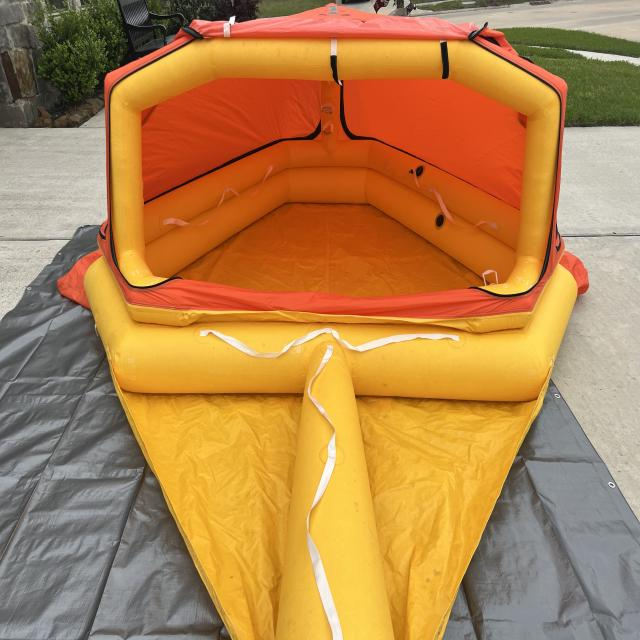Multi-person_life_raft: (57, 3, 590, 639)
